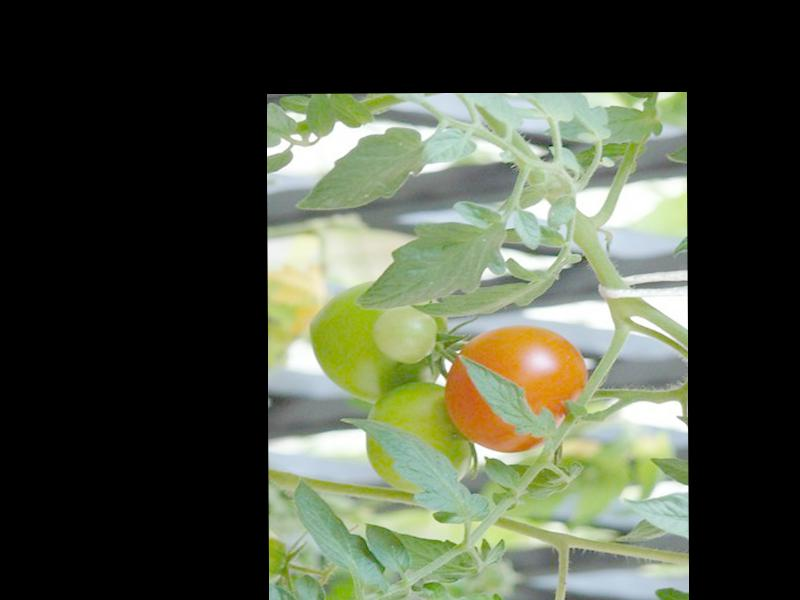Tomato: (446, 324, 588, 453)
